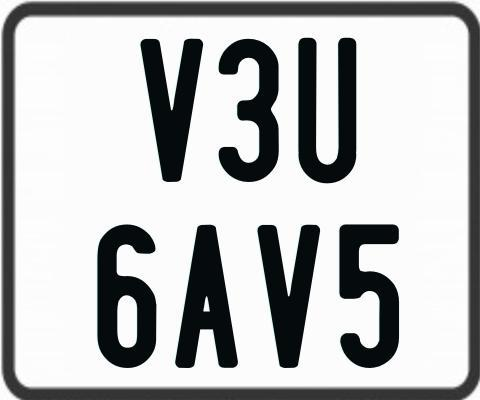3: (216, 37, 279, 186)
5: (336, 221, 399, 371)
6: (96, 222, 156, 371)
A: (173, 222, 238, 367)
U: (297, 38, 360, 183)
V: (141, 37, 209, 180), (255, 224, 319, 372)
